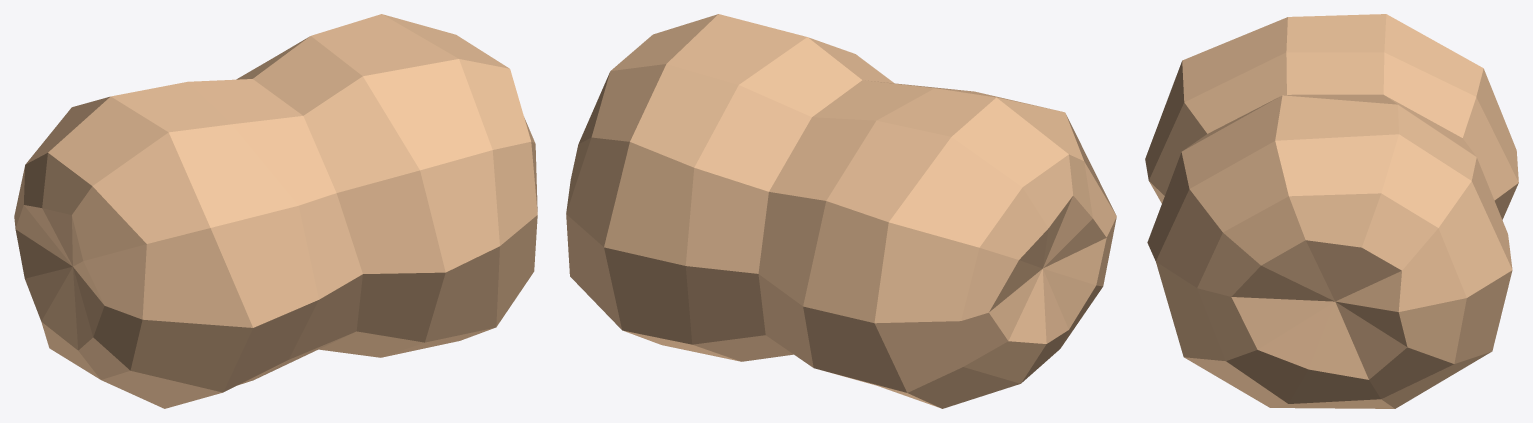
The model's file is clew_wool_resource.fbx.
3 views of the same model, side by side, from view 1: azimuth 30°, elevation 25°; view 2: azimuth 150°, elevation 25°; view 3: azimuth 270°, elevation 25° (orthographic). The views are drawn at different scales.
Visible parts, largest first — view 1: clew_wool; view 2: clew_wool; view 3: clew_wool.
Boxes of the visible parts, x1=… form: clew_wool: x1=14, y1=14, x2=537, y2=408; clew_wool: x1=566, y1=14, x2=1116, y2=408; clew_wool: x1=1145, y1=14, x2=1518, y2=408.
Bounding box in the file's own units: 35.03 × 20.86 × 25.87.
